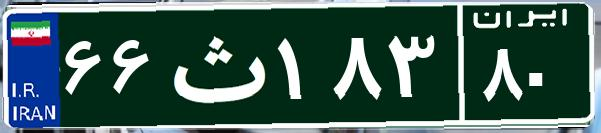0: (525, 38, 570, 115)
1: (273, 28, 330, 110)
3: (385, 28, 445, 110)
6: (57, 26, 110, 107), (110, 28, 158, 105)
8: (330, 28, 385, 110), (475, 38, 525, 113)
ث: (158, 15, 273, 115)
